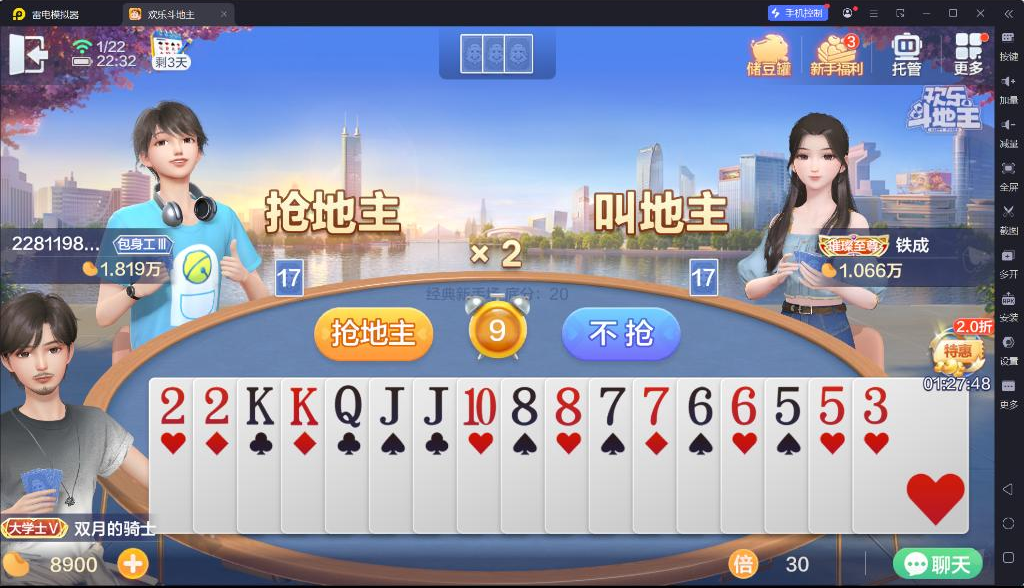J: (374, 383, 408, 427), (419, 383, 451, 427)
K: (285, 383, 320, 428), (243, 381, 277, 427)
Q: (331, 383, 365, 429)
eight: (551, 384, 585, 428), (508, 384, 541, 428)
five: (814, 381, 848, 427), (770, 382, 802, 428)
seven: (637, 384, 671, 427), (596, 384, 627, 428)
six: (725, 381, 758, 427), (682, 383, 714, 428)
ten: (460, 384, 498, 427)
three: (861, 384, 891, 426)
two: (156, 383, 189, 426), (200, 383, 232, 426)
